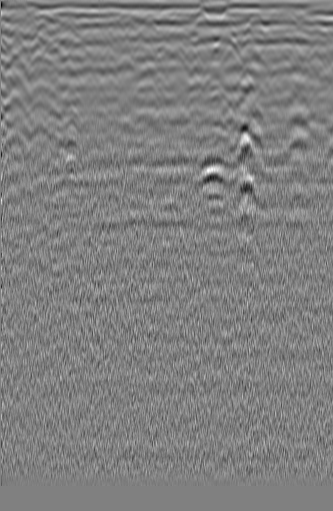가스: (225, 175, 261, 203)
상수: (279, 43, 305, 72)
오수: (0, 51, 32, 76)
우수: (147, 42, 179, 65)
